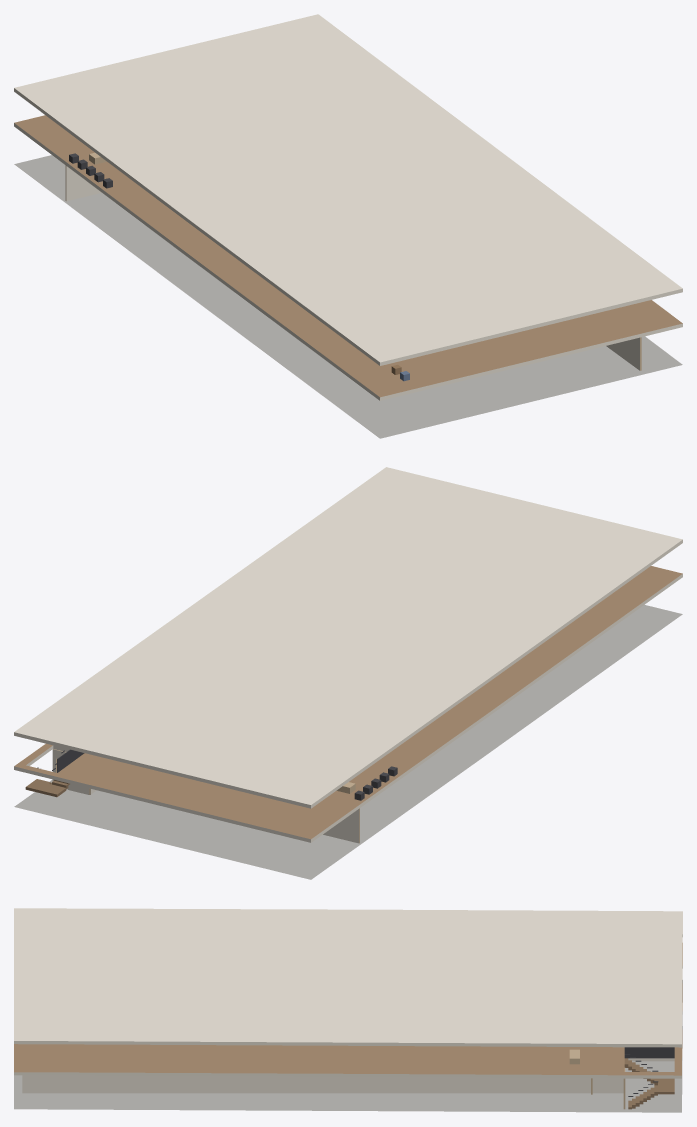
Rendered from interior.glb.
3 views of the same model, one above another, from view 1: azimuth 30°, elevation 25°; view 2: azimuth 150°, elevation 25°; view 3: azimuth 270°, elevation 25° (orthographic). The views are drawn at different scales.
Parts seen in each view (by area): view 1: slabs, partitions, coarse-s1; view 2: slabs, partitions, stair; view 3: slabs, partitions, stair.
Boxes of the visible parts, box(x1,y1,x2,y2) form: slabs: box(14, 14, 682, 438); partitions: box(65, 165, 641, 370); coarse-s1: box(69, 152, 409, 381); slabs: box(14, 467, 682, 879); partitions: box(52, 749, 359, 843); stair: box(25, 749, 84, 797); slabs: box(14, 908, 682, 1112); partitions: box(22, 1068, 625, 1109); stair: box(624, 1047, 674, 1109).
Size of the model in its own units: 23.3 by 5.49 by 48.46.
